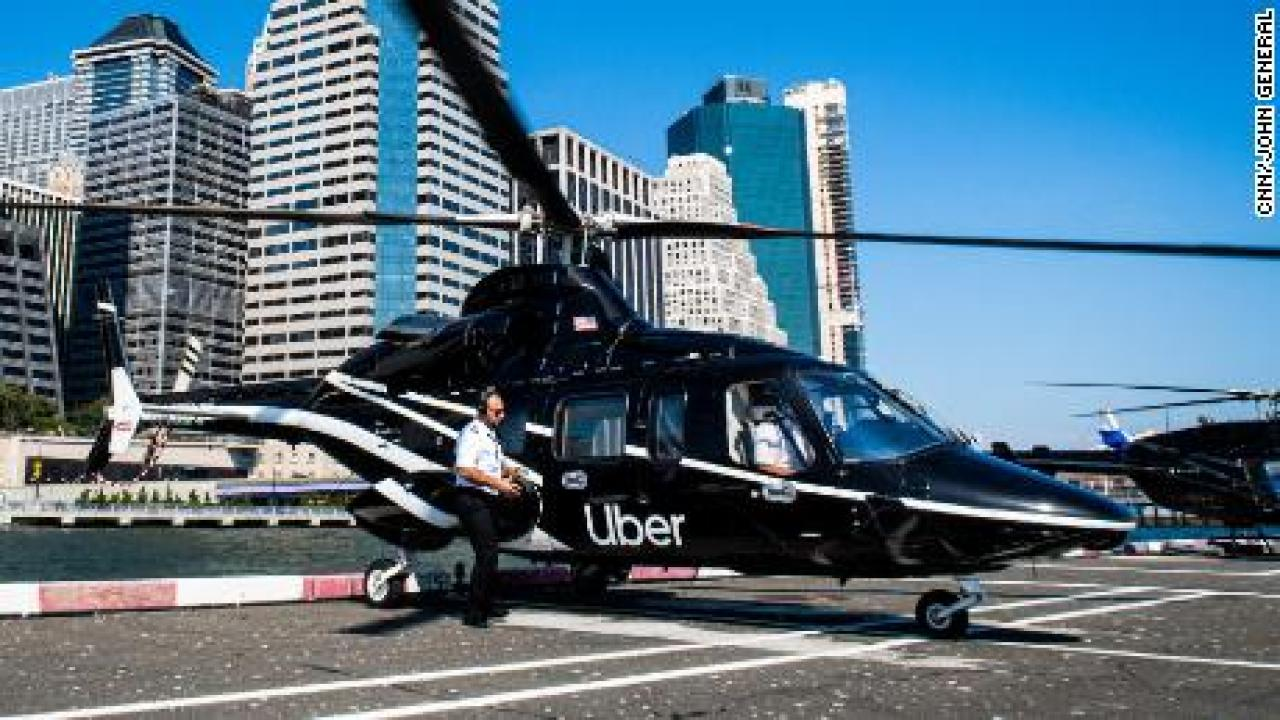Helicopter: (0, 0, 1280, 645)
